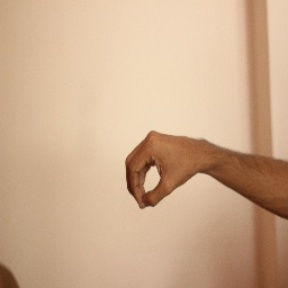O: (121, 127, 203, 212)
